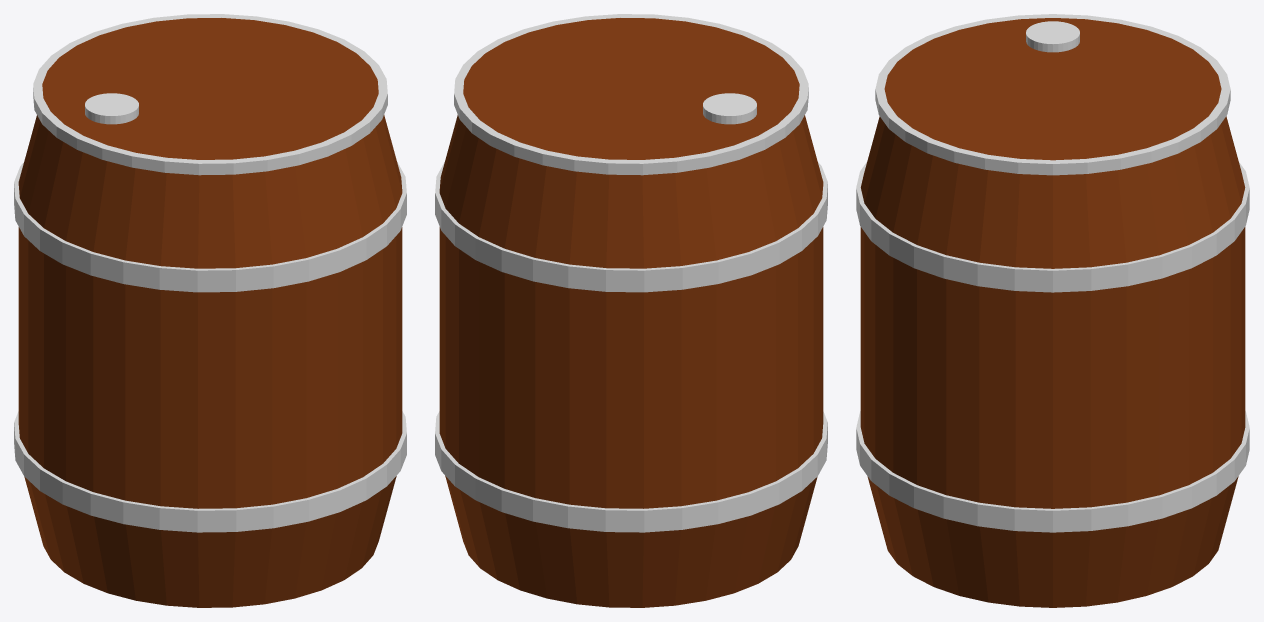
The model's file is barel.gltf.
3 renders of one model, left to right at view 1: azimuth 30°, elevation 25°; view 2: azimuth 150°, elevation 25°; view 3: azimuth 270°, elevation 25°, orthographic.
Parts seen in each view (by area): view 1: Cylinder; view 2: Cylinder; view 3: Cylinder.
Boxes of the visible parts, left/top/right/bottom form: Cylinder: left=14, top=14, right=406, bottom=607; Cylinder: left=435, top=14, right=827, bottom=607; Cylinder: left=856, top=14, right=1249, bottom=607.
Bounding box in the file's own units: 1.63 × 2.09 × 1.63.
